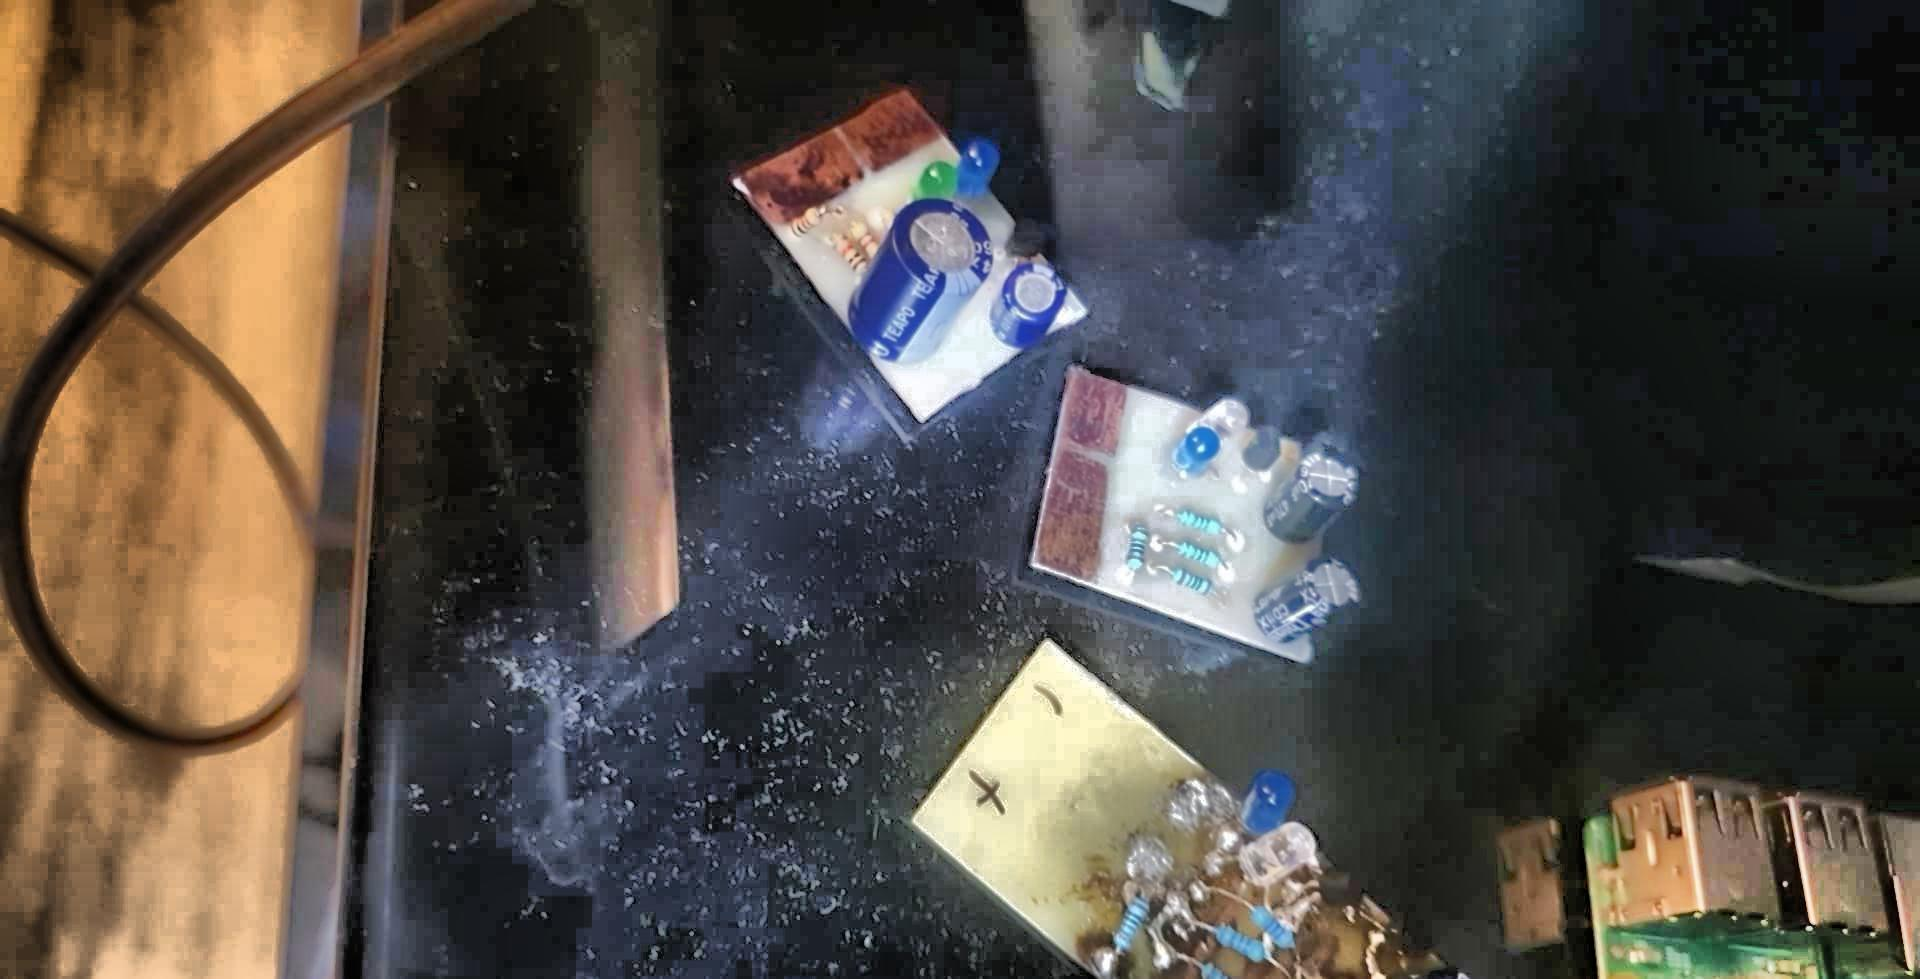IC: (727, 122, 864, 222), (1030, 446, 1122, 588), (841, 81, 939, 170), (1052, 360, 1131, 458)
